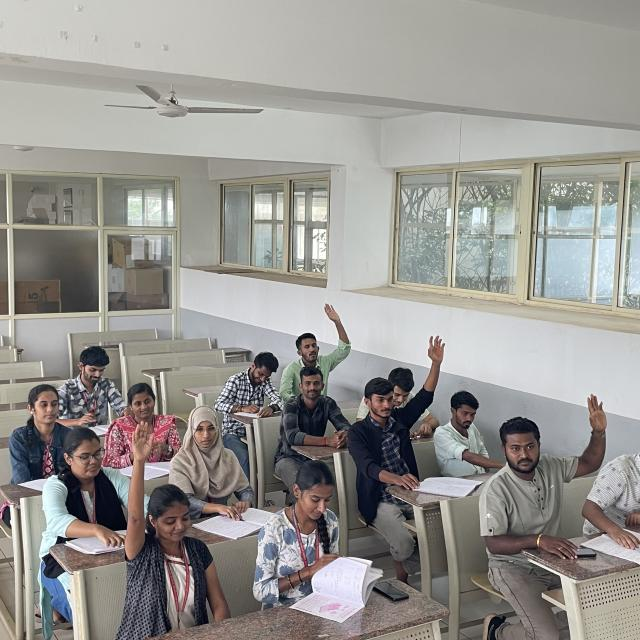Hand Rising: (122, 423, 218, 623), (484, 394, 608, 509), (355, 332, 442, 491), (286, 302, 349, 406)
Reading: (215, 351, 286, 421), (72, 339, 119, 439)
